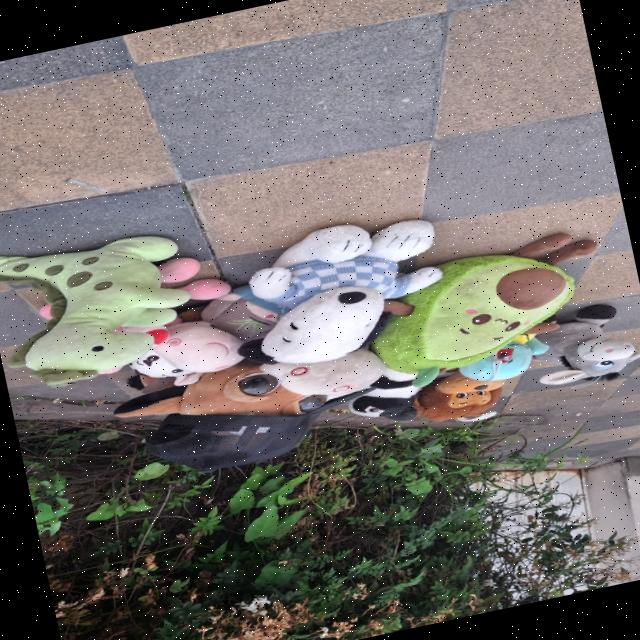Gorra: (137, 371, 386, 488)
